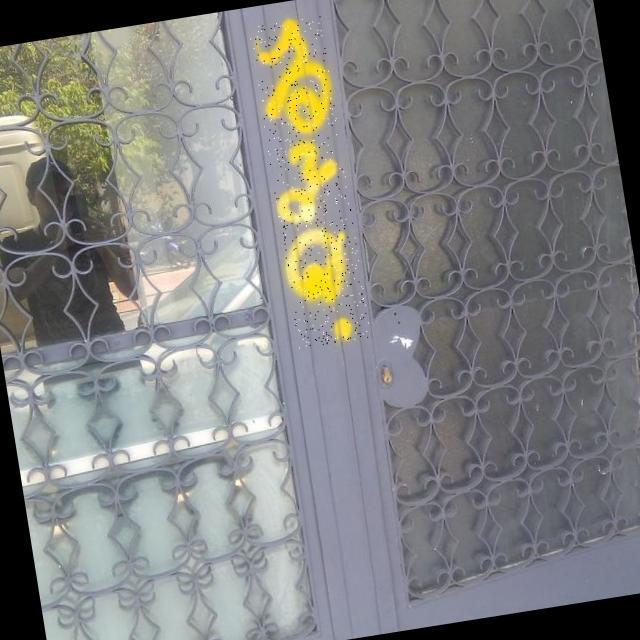-: (248, 16, 372, 348)
